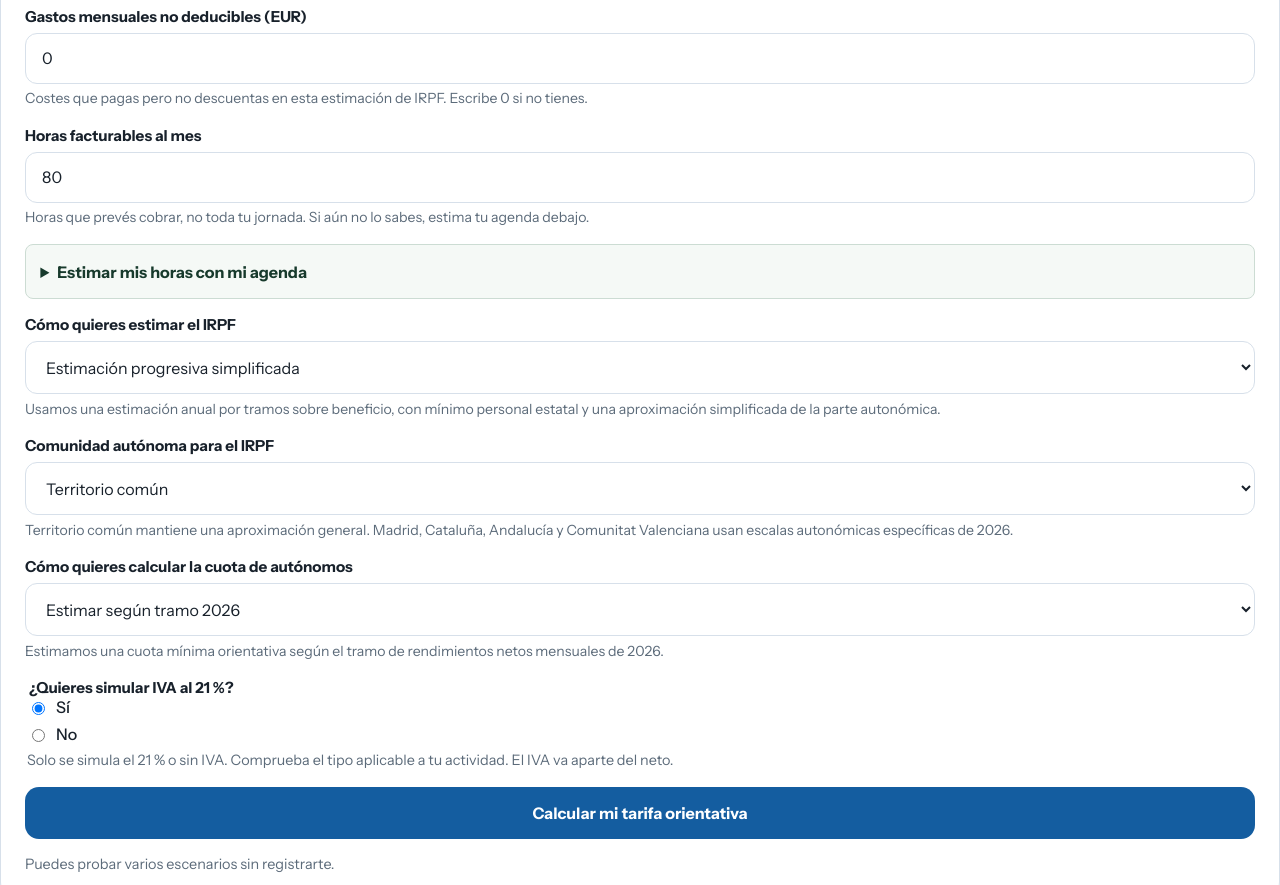
Test: CalculatorForm › can calculate without changing the URL when embedded in another landing
The image size is (1280, 885).
(page scrolled)
Click the button "Calcular mi tarifa orientativa": point(640, 813) [25, 787, 1255, 839]
(page scrolled)
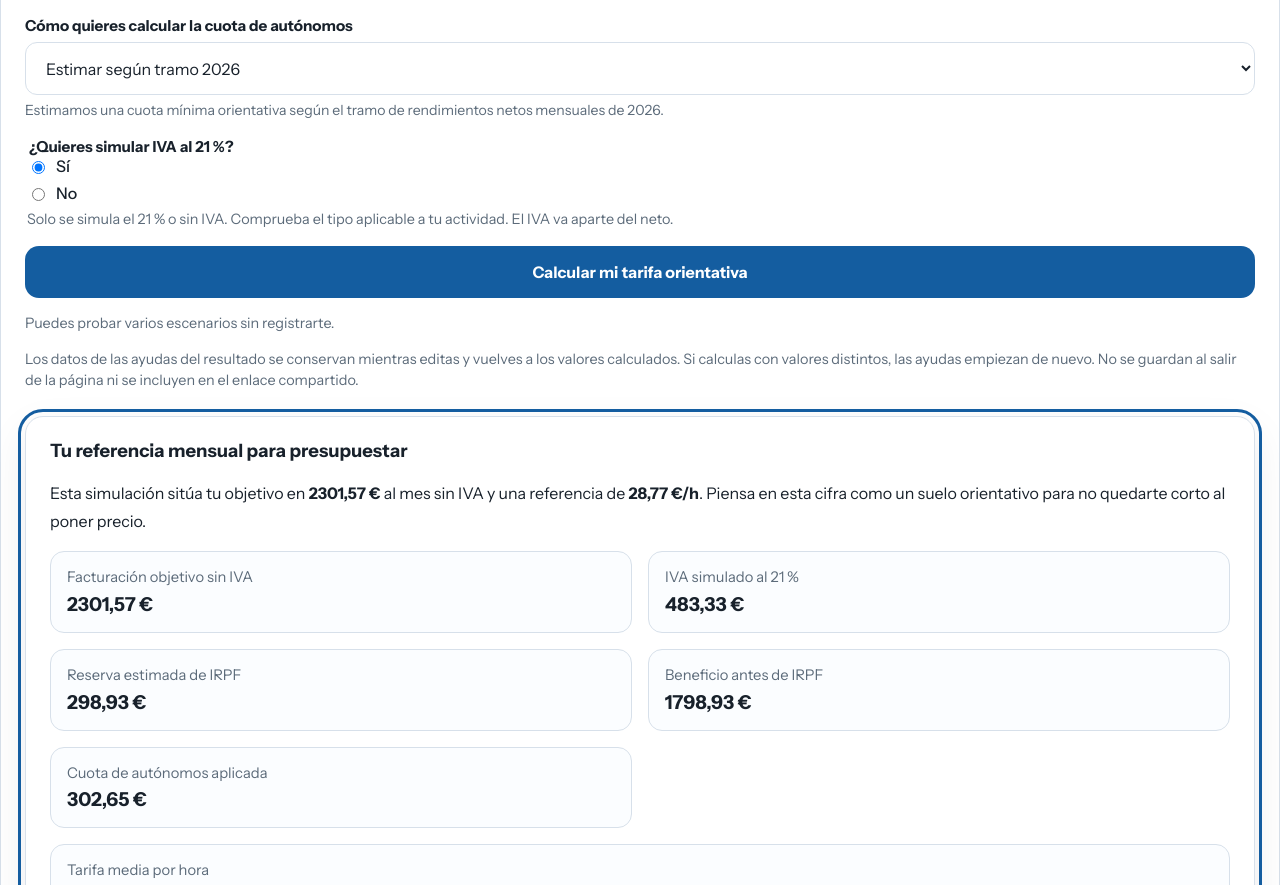
Check: the heading "Tu referencia mensual para presupuestar" is shown, box [50, 439, 408, 462]
